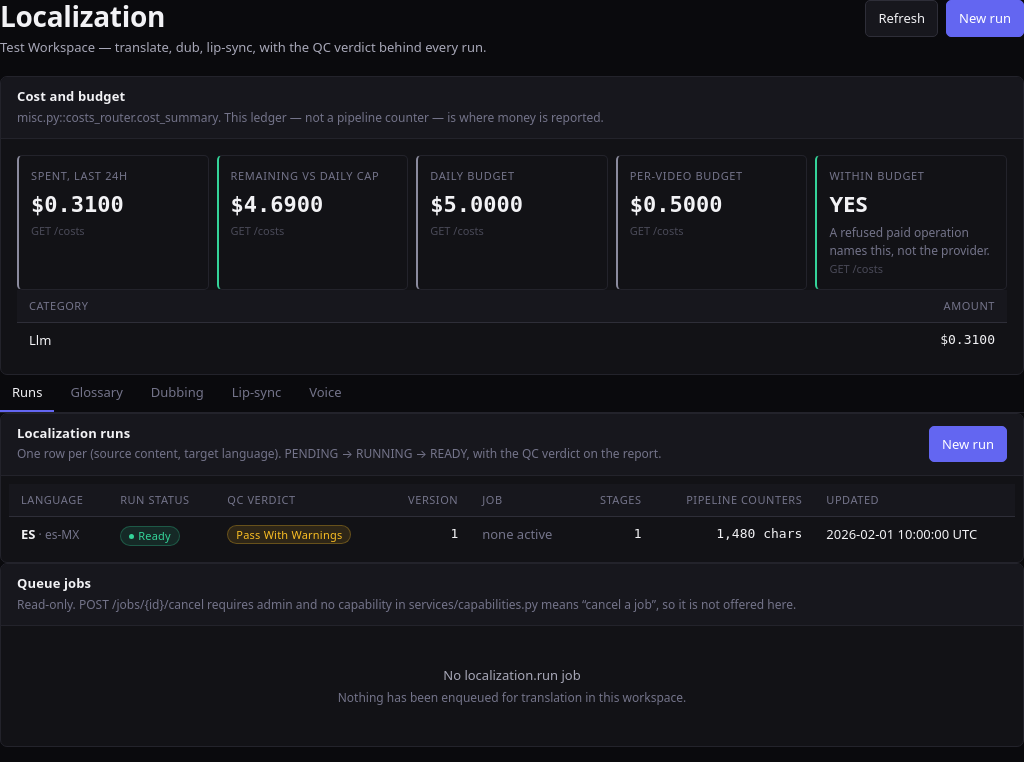
a blocked provider is never presented as available › renders an unavailable provider's remediation instead of implying it works
The image size is (1024, 762).
Click the tab "Lip-sync" at coordinates (256, 393), box [220,375,293,412]
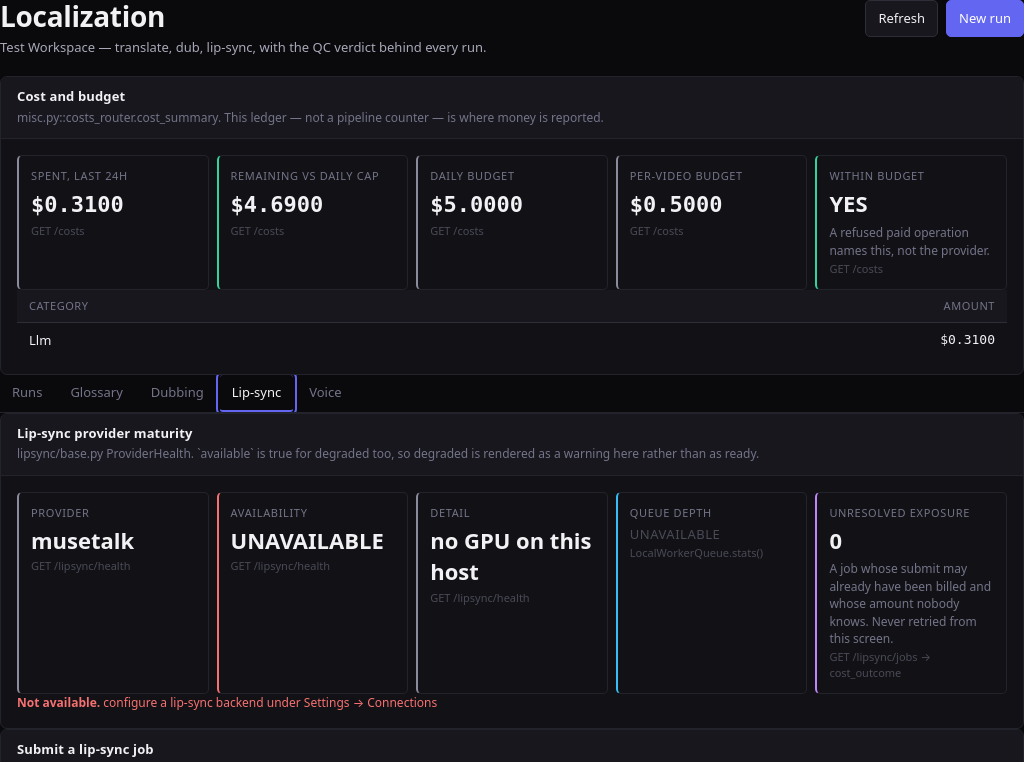
Check: the text "Availability" is shown, box [231,505,308,520]
Check: the text "UNAVAILABLE" below "Availability" is shown, box [231,524,384,554]
Check: the text "Not available. configure a lip-sync backend under Settings → Connections" is shown, box [17,694,437,711]
